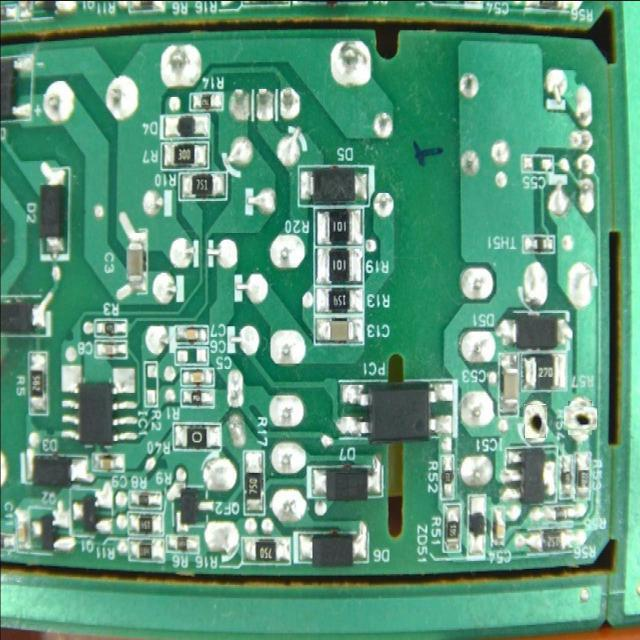damged: (566, 403, 594, 432), (524, 404, 546, 438)
